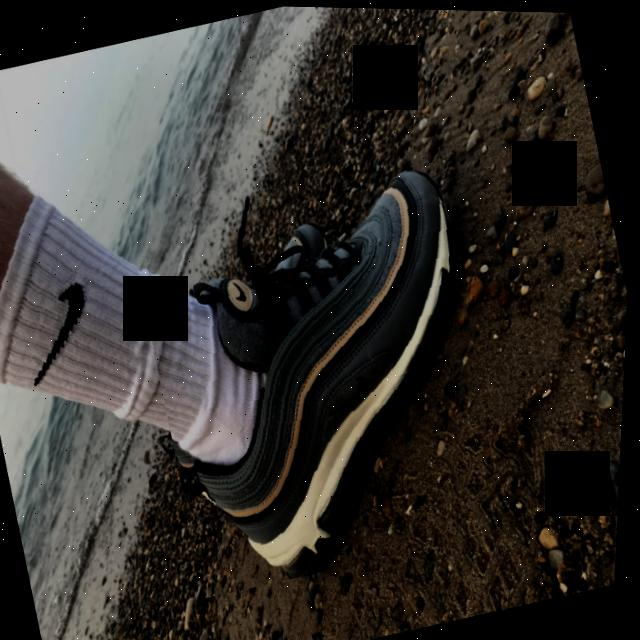shoe: (109, 113, 537, 602)
